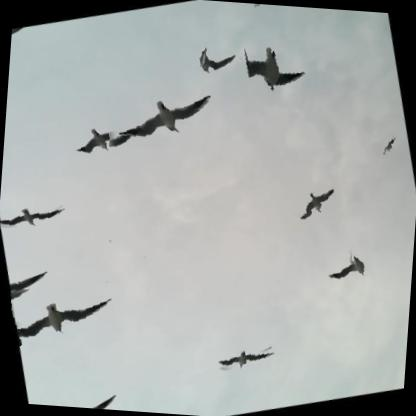bird: (106, 82, 224, 156), (9, 278, 126, 349), (230, 30, 320, 106), (63, 112, 138, 165), (211, 335, 284, 384), (0, 194, 68, 238), (317, 242, 372, 289), (187, 36, 243, 81), (288, 182, 346, 224), (33, 389, 127, 411), (376, 132, 402, 160), (231, 2, 266, 15)
